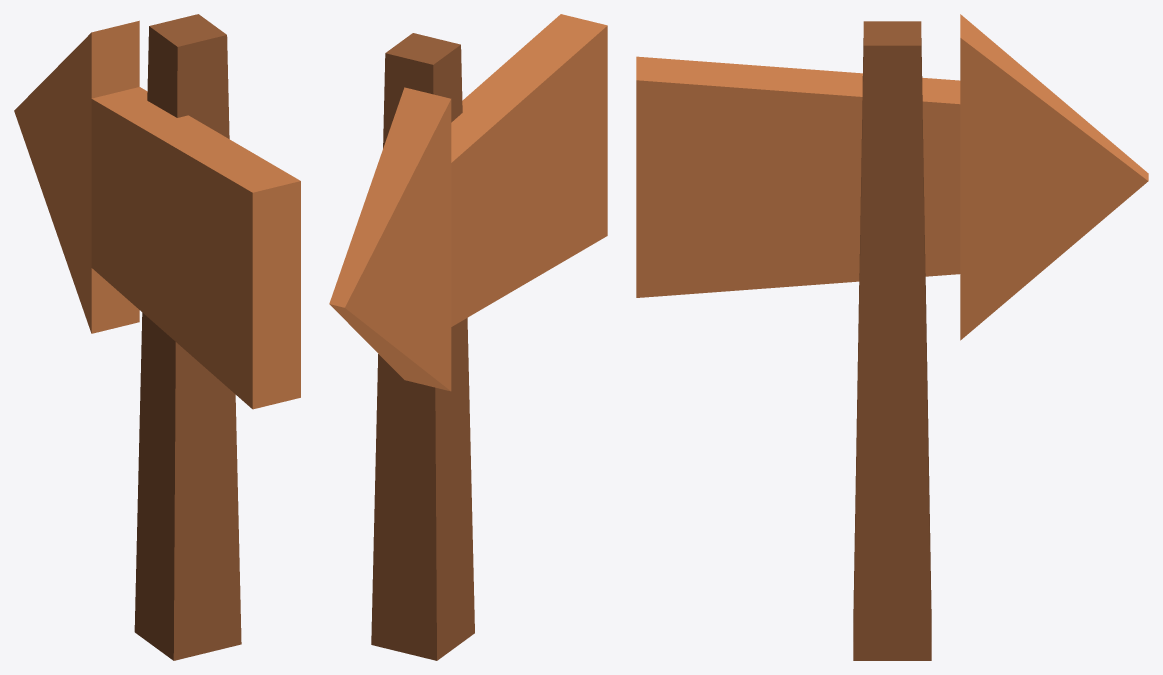
Rendered from arrow.dae.
The picture shows the model from 3 angles, left to right: view 1: azimuth 30°, elevation 25°; view 2: azimuth 150°, elevation 25°; view 3: azimuth 270°, elevation 25°; orthographic projection. The views are drawn at different scales.
Visible parts, largest first — view 1: arrow (×2); view 2: arrow (×2); view 3: arrow (×2).
Boxes of the visible parts, box(x1,y1,x2,y2) form: arrow (×2): box(14, 14, 300, 660); arrow (×2): box(329, 14, 607, 660); arrow (×2): box(636, 14, 1148, 660).
Size of the model in its own units: 0.0998 by 0.6 by 0.4557.
